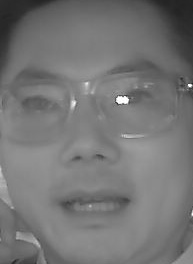glass: (88, 67, 177, 138), (3, 76, 79, 144)
mouth: (51, 185, 131, 224)
